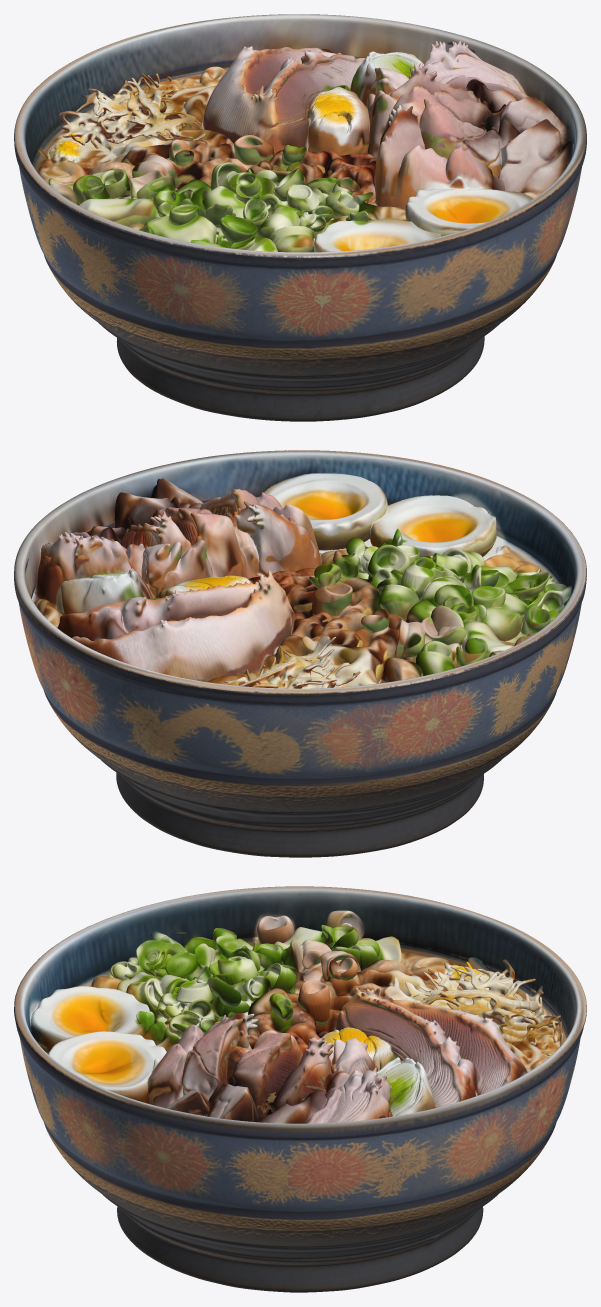
File: Karaage.glb
3 renders of one model, top to bottom at view 1: azimuth 30°, elevation 25°; view 2: azimuth 150°, elevation 25°; view 3: azimuth 270°, elevation 25°, orthographic.
Parts seen in each view (by area): view 1: tripo_node_c3760626-6cec-49ba-9425-79e51e022417; view 2: tripo_node_c3760626-6cec-49ba-9425-79e51e022417; view 3: tripo_node_c3760626-6cec-49ba-9425-79e51e022417.
Part boxes in pixels (left/top/right/bottom): tripo_node_c3760626-6cec-49ba-9425-79e51e022417: left=14, top=14, right=586, bottom=421; tripo_node_c3760626-6cec-49ba-9425-79e51e022417: left=14, top=450, right=586, bottom=857; tripo_node_c3760626-6cec-49ba-9425-79e51e022417: left=14, top=886, right=586, bottom=1292.
Bounding box in the file's own units: 0.2928 × 0.1386 × 0.2941.
1 material, 1 textured.
